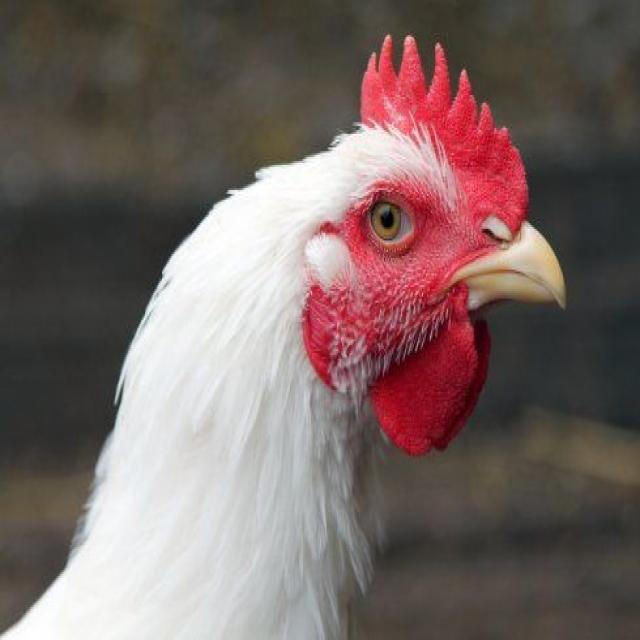Healthy: (24, 33, 568, 640)
